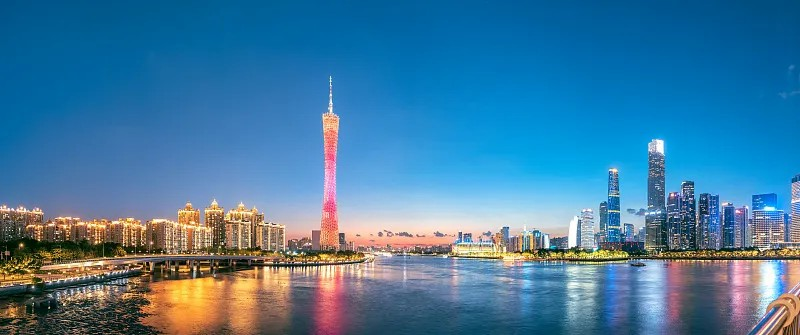Canton: (317, 74, 345, 253)
